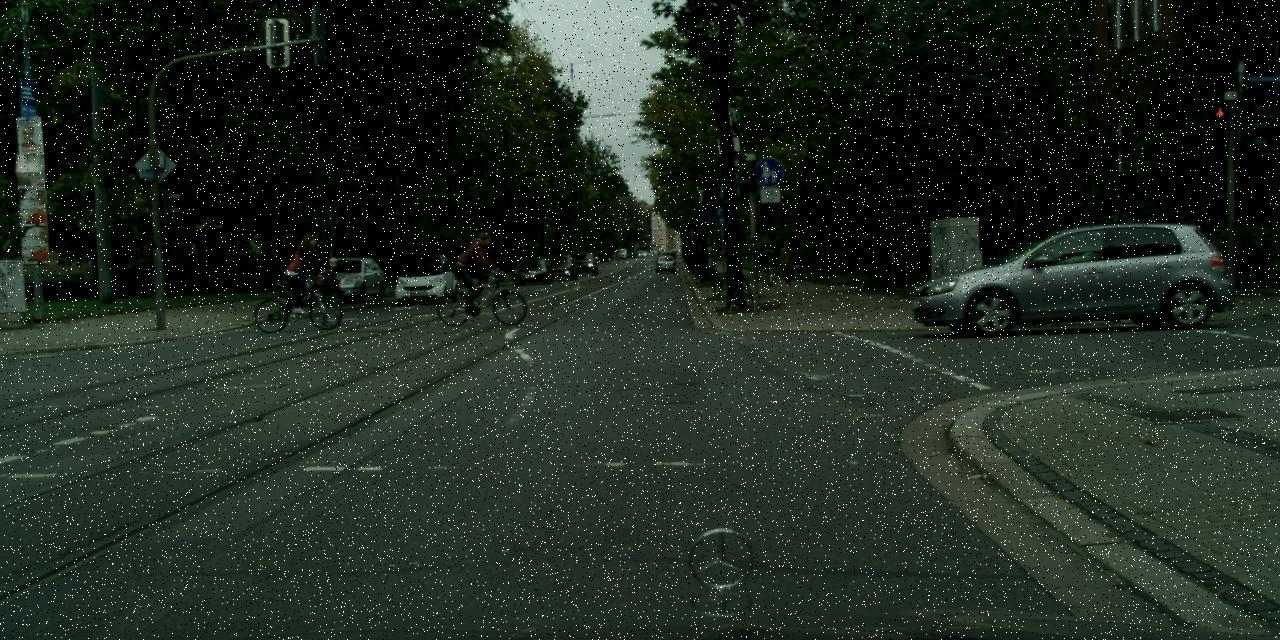ped: (284, 233, 318, 315), (463, 232, 494, 308), (319, 256, 346, 323), (759, 241, 778, 287), (778, 240, 796, 285)
